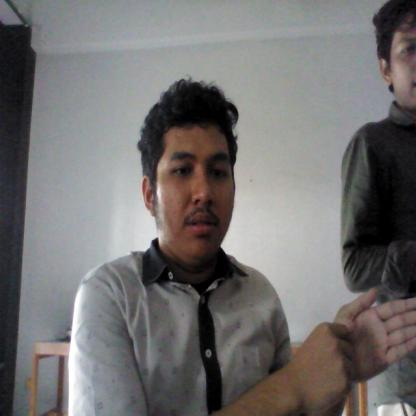Nama: (296, 281, 416, 398)
